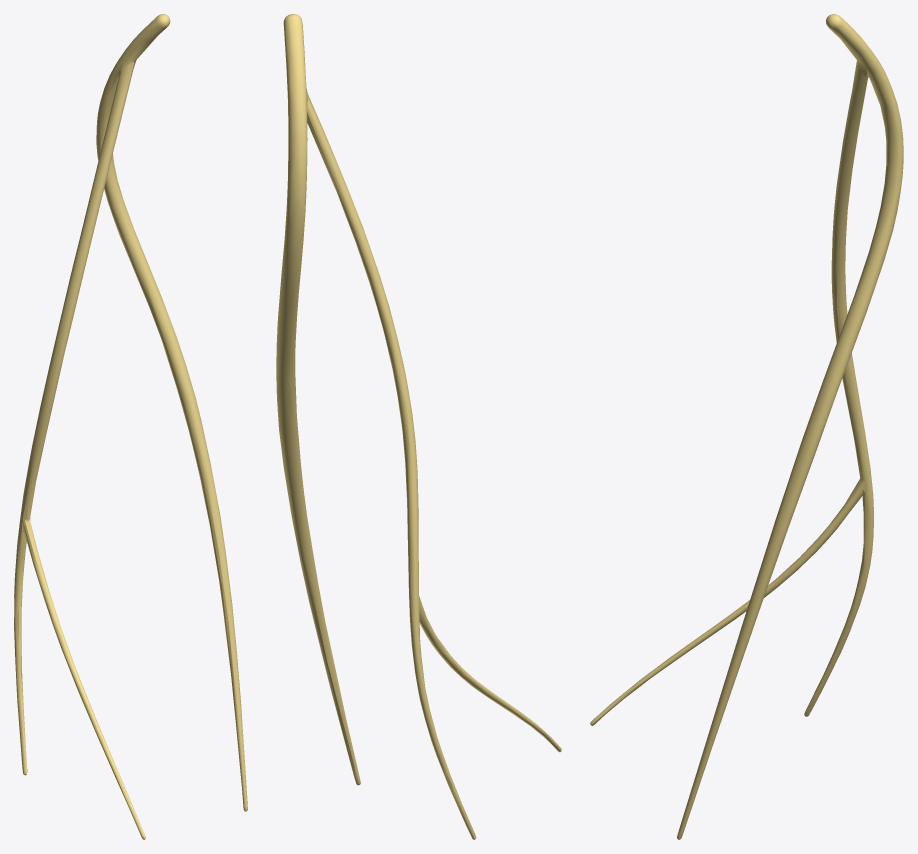
File: fma52936_fj4003.glb
3 views of the same model, side by side, from view 1: azimuth 30°, elevation 25°; view 2: azimuth 150°, elevation 25°; view 3: azimuth 270°, elevation 25° (orthographic). The views are drawn at different scales.
Visible parts, largest first — view 1: FMA52936_FJ4003; view 2: FMA52936_FJ4003; view 3: FMA52936_FJ4003.
Boxes of the visible parts, left/top/right/bottom form: FMA52936_FJ4003: left=14, top=14, right=247, bottom=839; FMA52936_FJ4003: left=276, top=14, right=561, bottom=839; FMA52936_FJ4003: left=590, top=14, right=903, bottom=839.
Bounding box in the file's own units: 0.00953 × 0.0378 × 0.0131.
